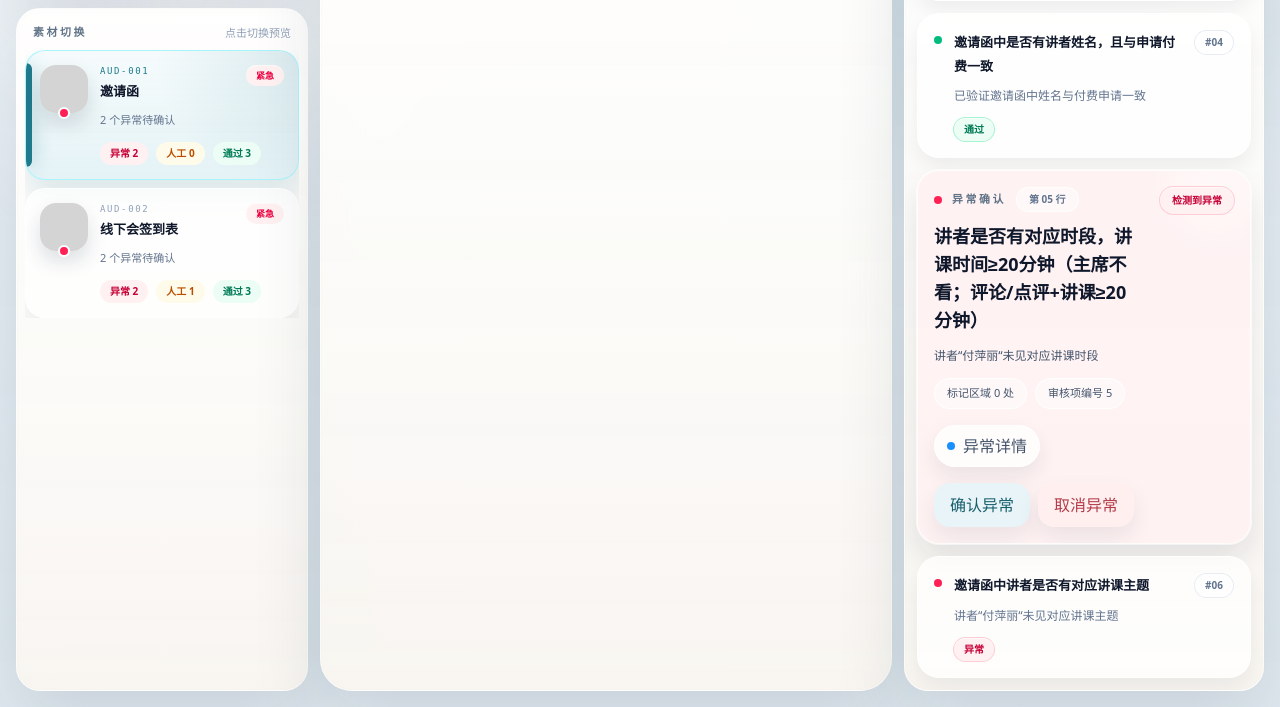
Home › persists anomaly decisions locally and locks them after selection
The image size is (1280, 707).
(page scrolled)
Expected: the button "取消异常" is enabled, [1038,483,1134,527]
Click the button "确认异常" at {"x": 982, "y": 505}, box [934,483,1030,527]
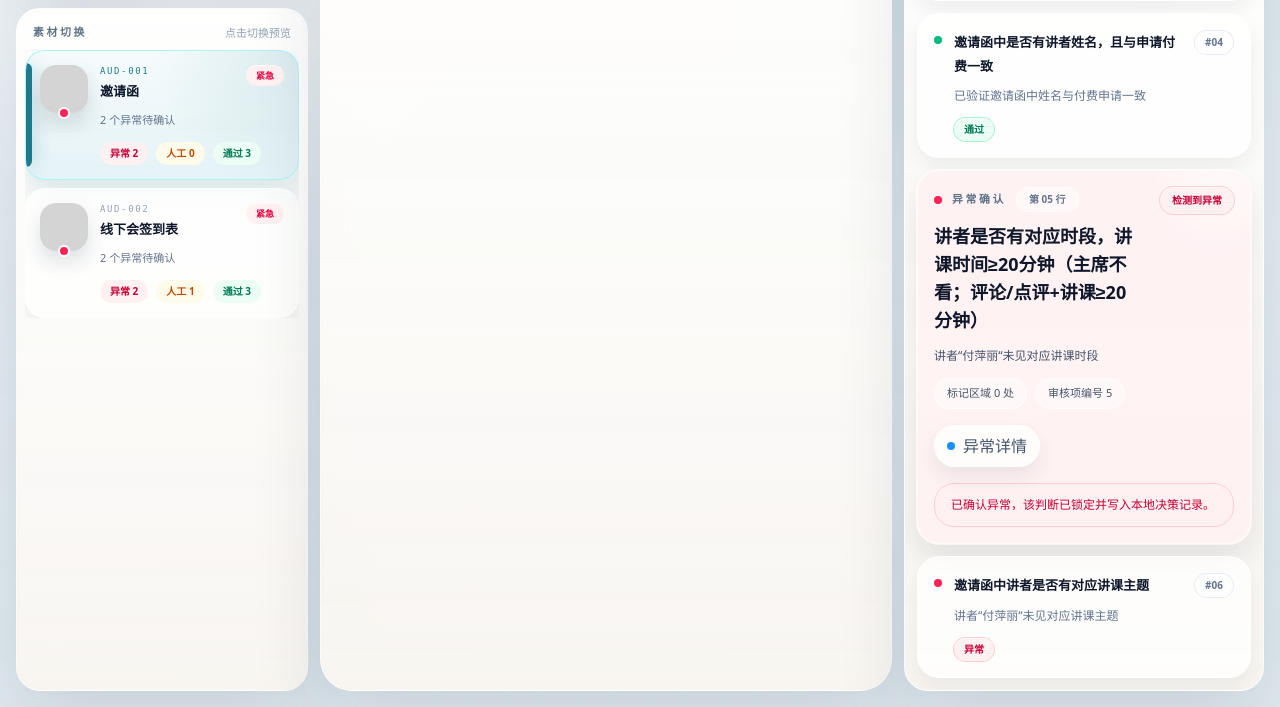
Now the button "取消异常" is gone
